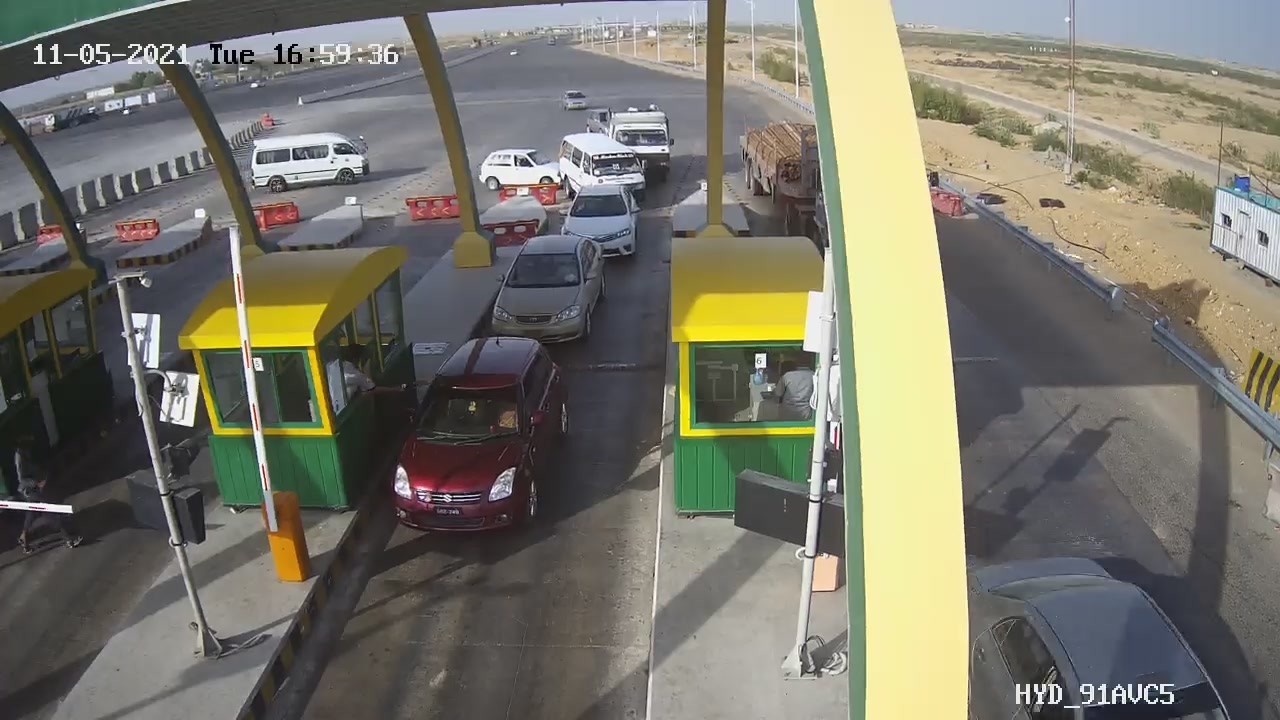F1: (376, 320, 585, 553), (480, 220, 626, 363), (549, 169, 652, 273)
